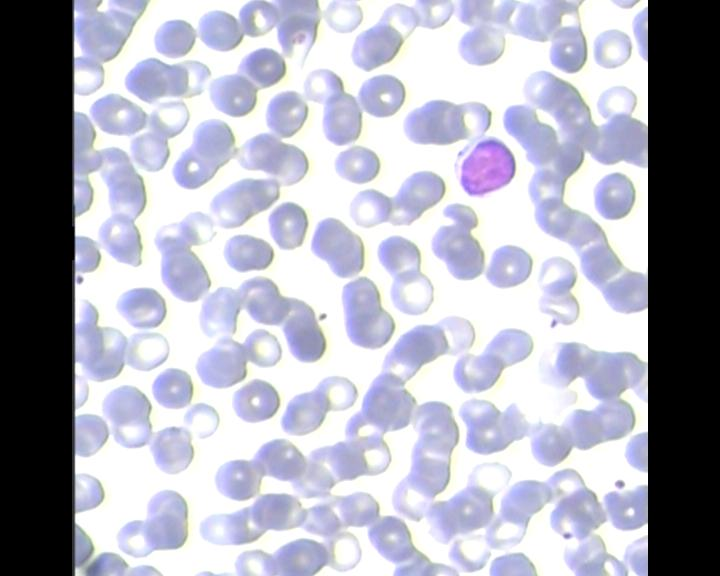lymp: (451, 133, 520, 201)
